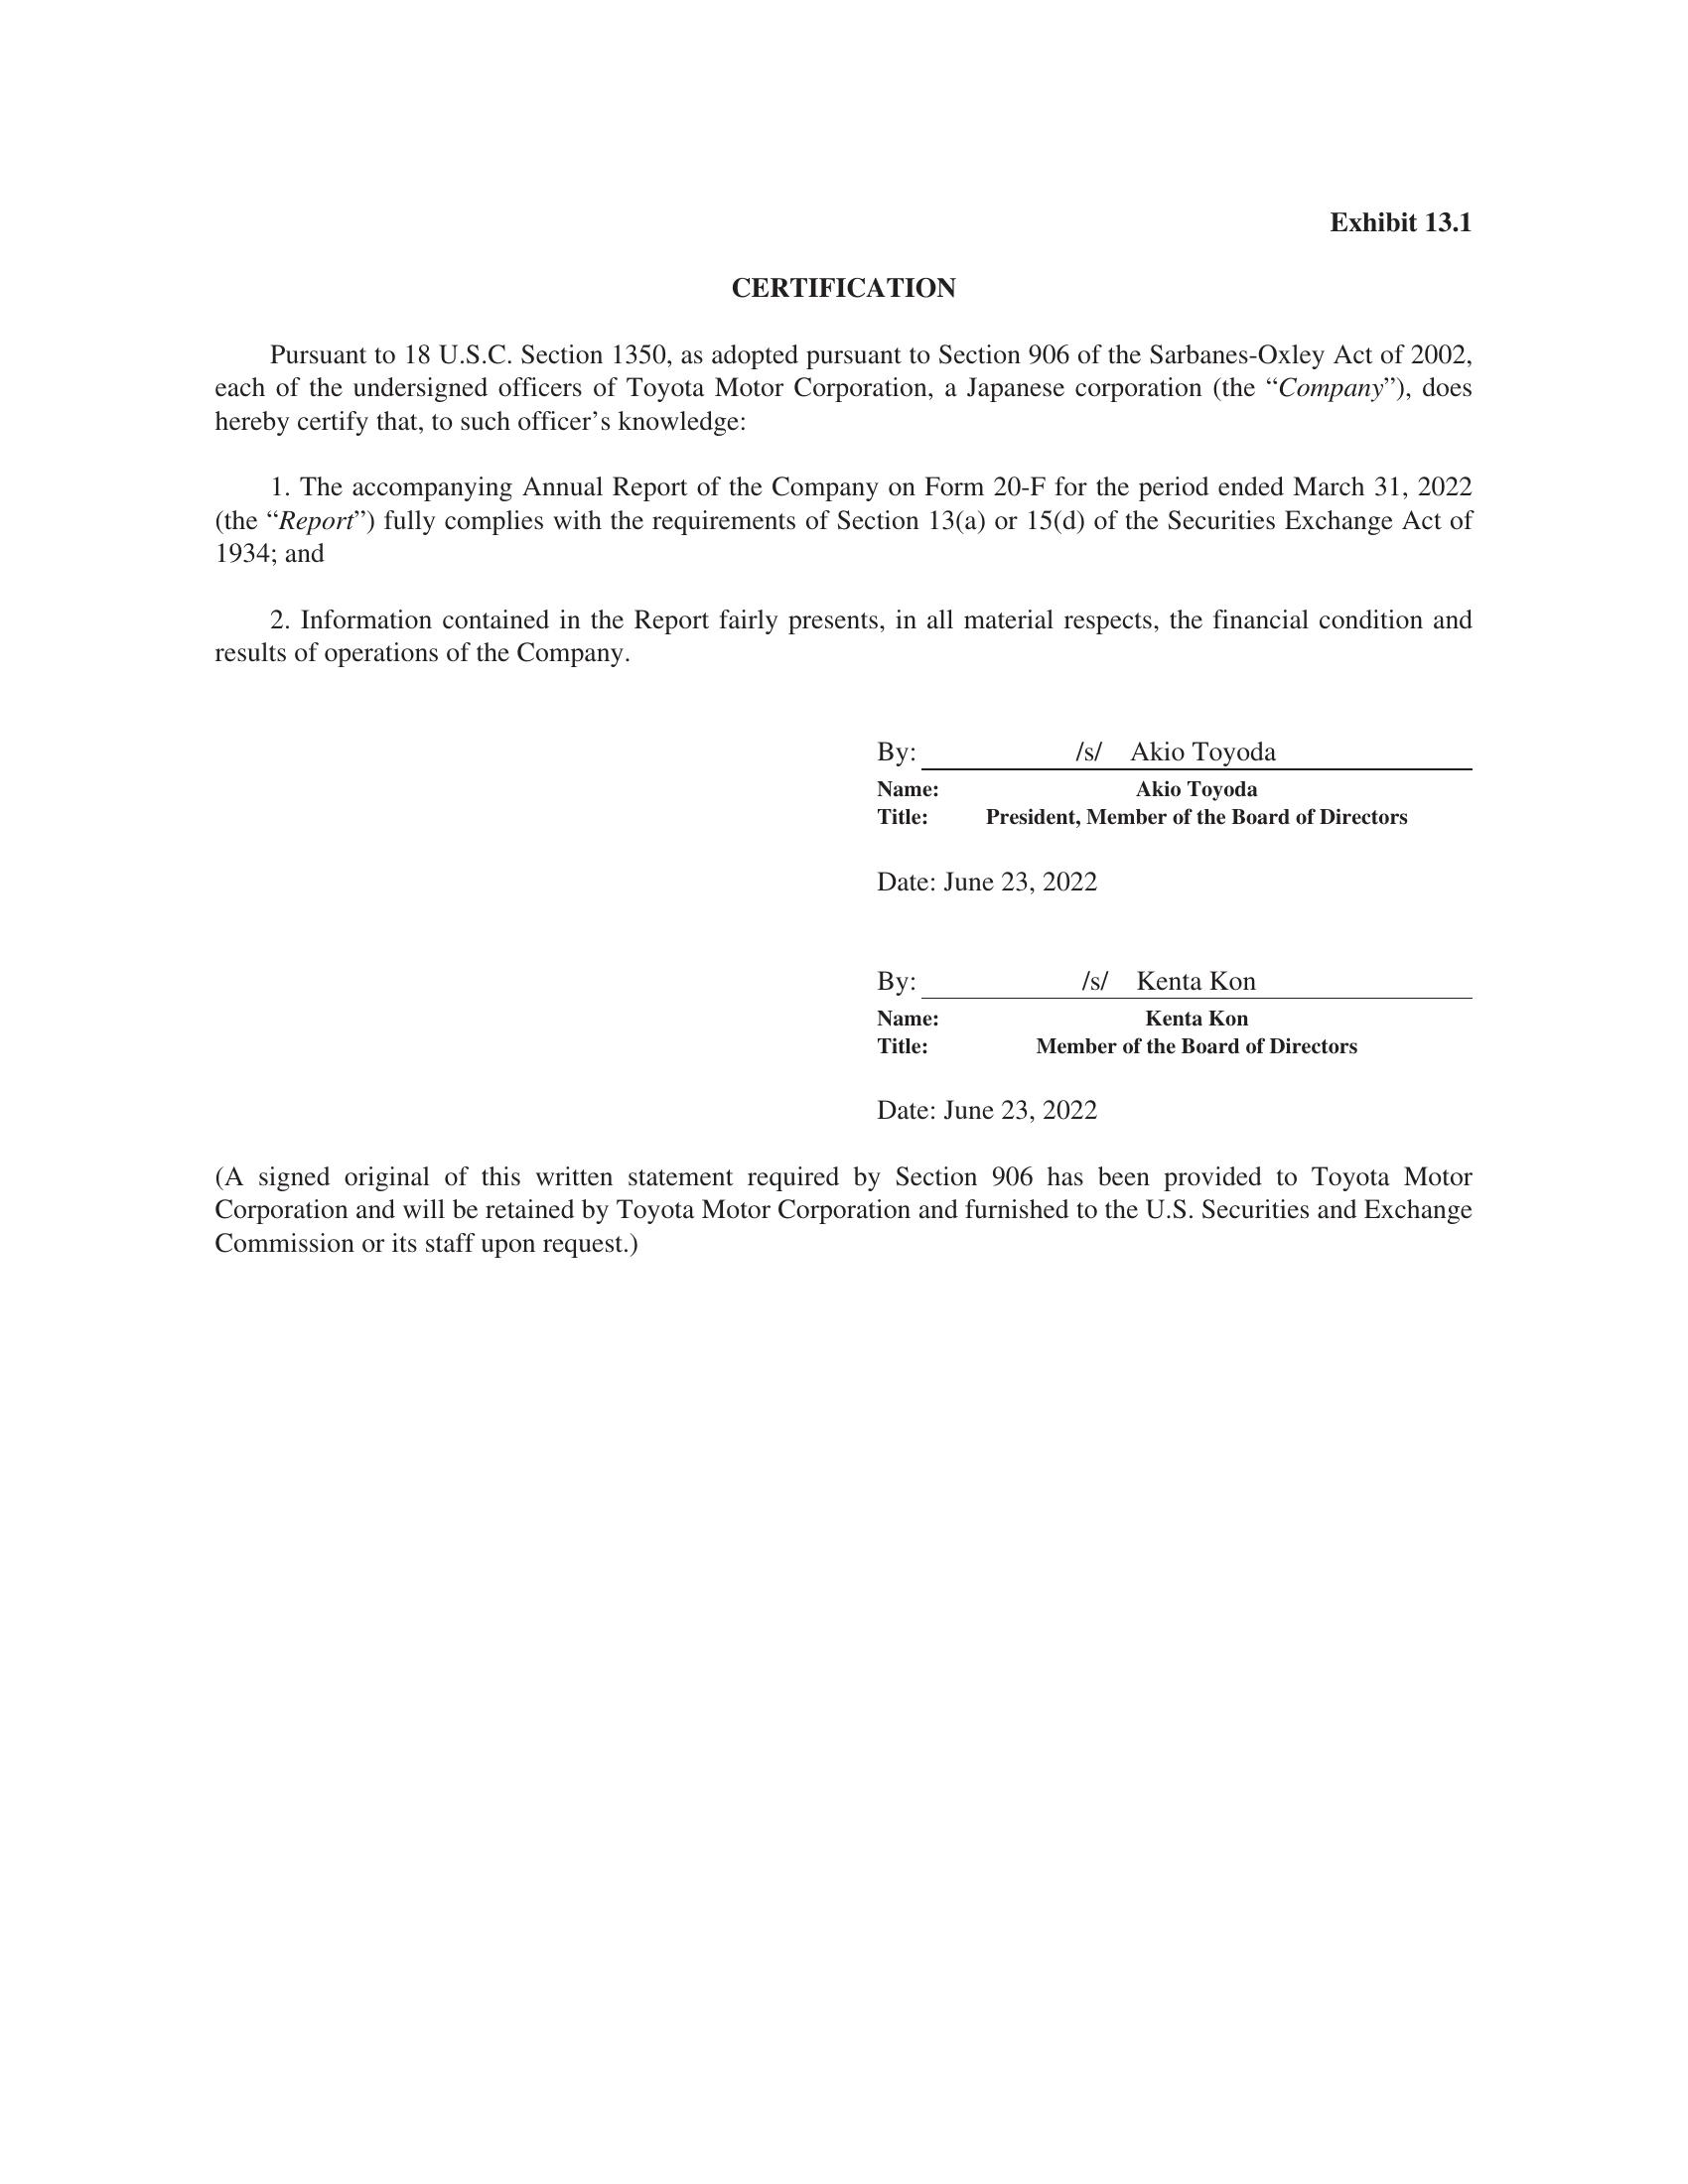Footer: (0, 1993, 1688, 2184)
Header: (0, 0, 1688, 191)
